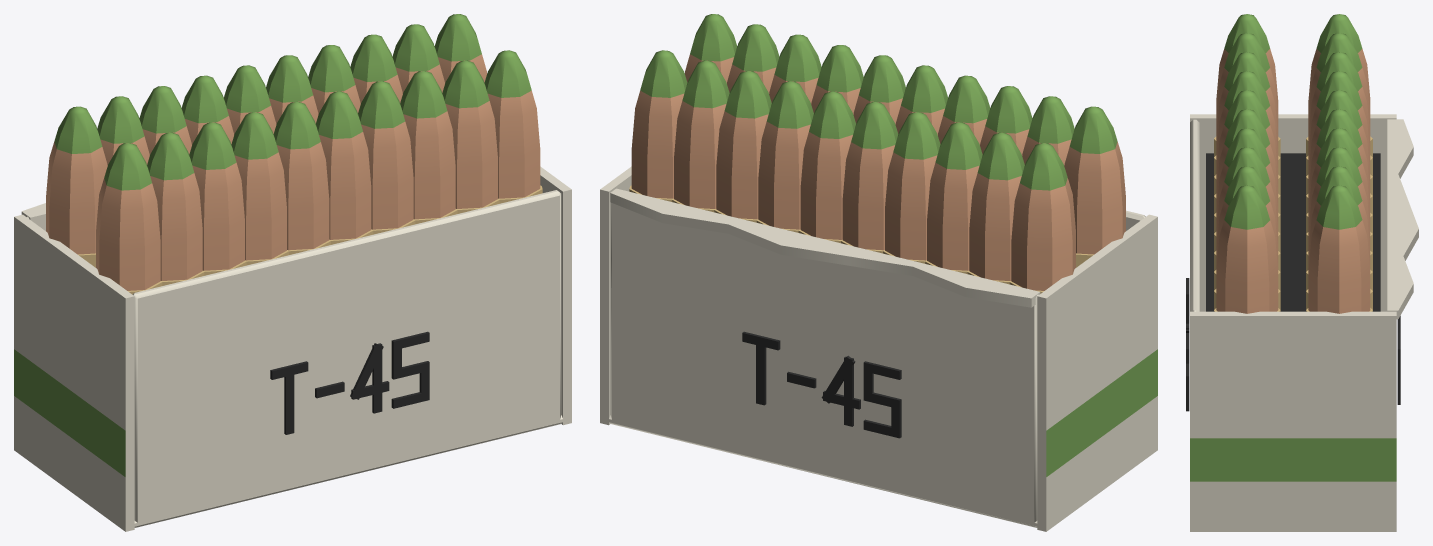
The model's file is ammo_762x39_tracer.glb.
3 views of the same model, side by side, from view 1: azimuth 30°, elevation 25°; view 2: azimuth 150°, elevation 25°; view 3: azimuth 270°, elevation 25° (orthographic). The views are drawn at different scales.
Visible parts, largest first — view 1: body; view 2: body; view 3: body.
Boxes of the visible parts, x1,y1,x2,y2 form: body: (14, 14, 571, 531); body: (600, 14, 1157, 531); body: (1186, 14, 1418, 531).
Bounding box in the file's own units: 0.06 × 0.046 × 0.0293.
